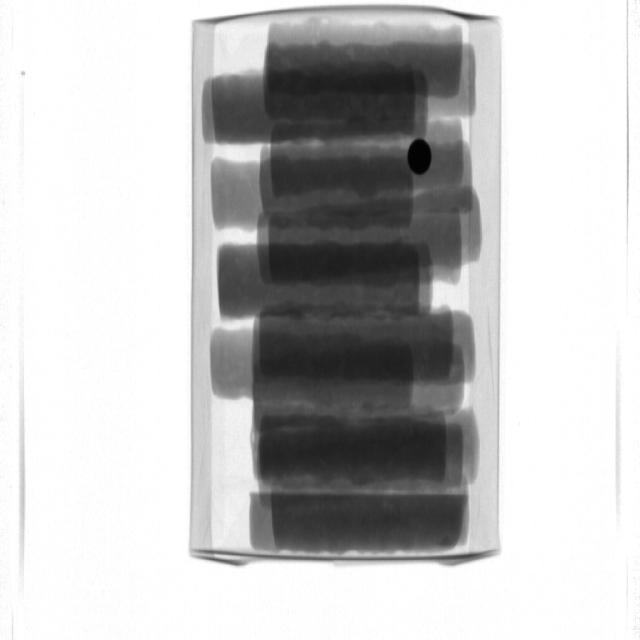ym: (408, 137, 433, 179)
